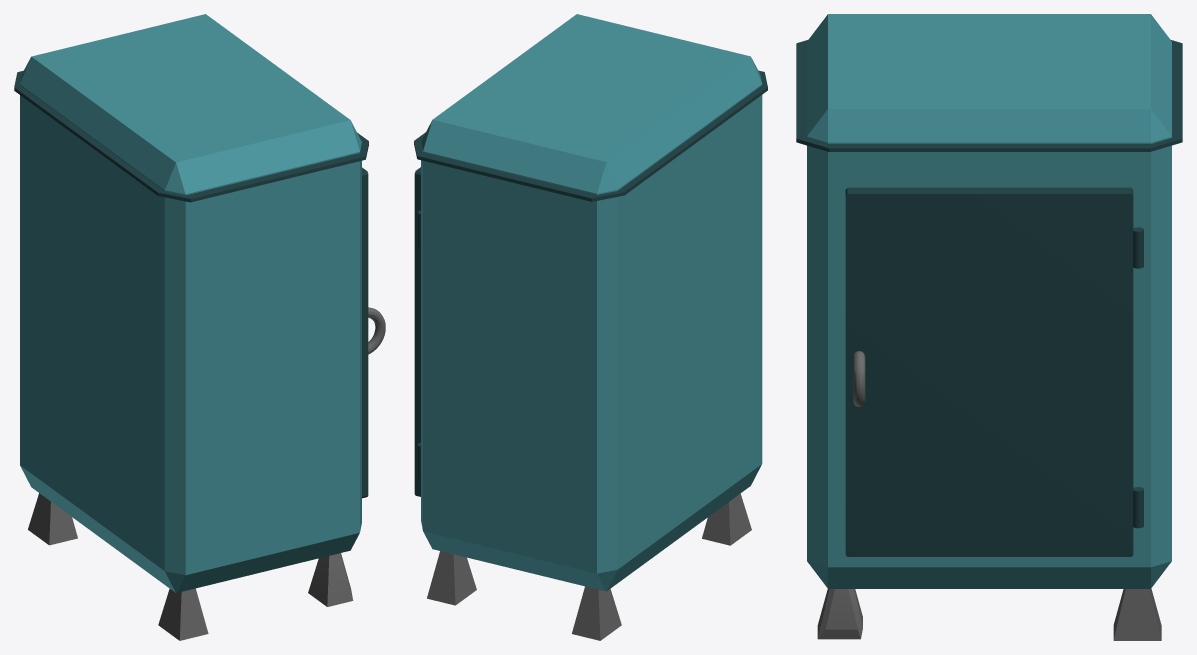
File: geladeira.fbx
3 renders of one model, left to right at view 1: azimuth 30°, elevation 25°; view 2: azimuth 150°, elevation 25°; view 3: azimuth 270°, elevation 25°, orthographic. The views are drawn at different scales.
Visible parts, largest first — view 1: Cube; view 2: Cube; view 3: Cube.
Boxes of the visible parts, left/top/right/bottom form: Cube: left=14, top=14, right=385, bottom=640; Cube: left=414, top=14, right=767, bottom=640; Cube: left=796, top=14, right=1182, bottom=640.
Size of the model in its own units: 269 by 509 by 336.
